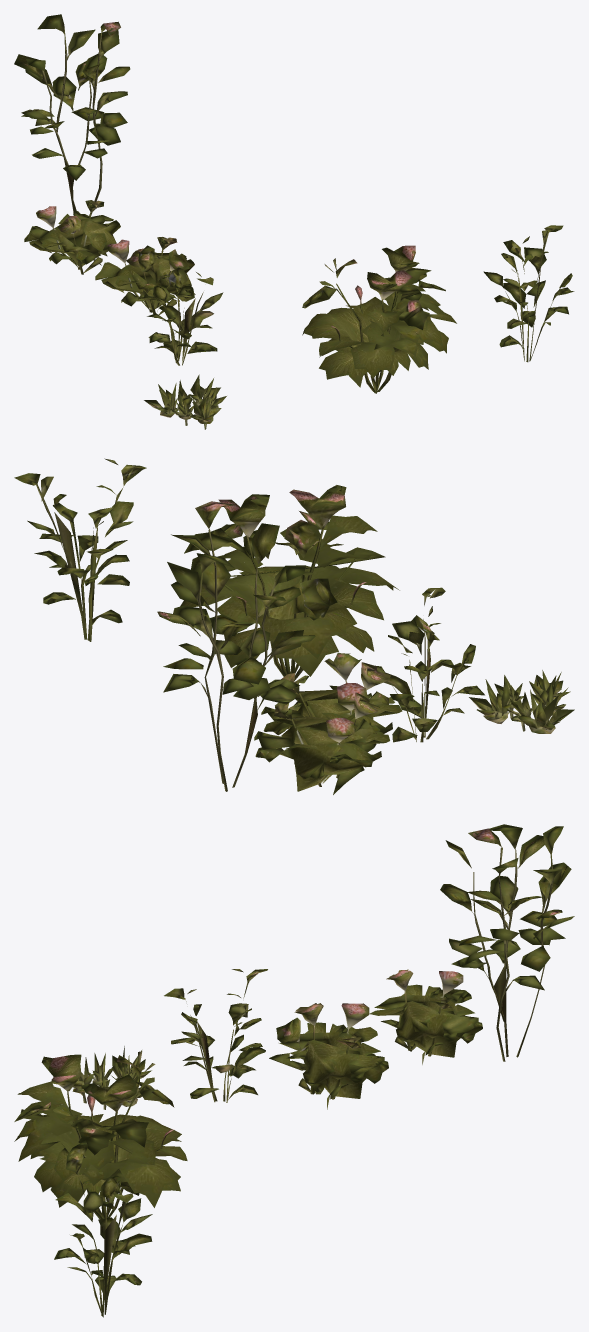
File: Bright flowers.fbx
3 renders of one model, top to bottom at view 1: azimuth 30°, elevation 25°; view 2: azimuth 150°, elevation 25°; view 3: azimuth 270°, elevation 25°, orthographic. The views are drawn at different scales.
Parts seen in each view (by area): view 1: tripo_node_3af698c0-3ffc-44cd-8c10-15fcefd0639e.002, tripo_node_3af698c0-3ffc-44cd-8c10-15fcefd0639e.006, tripo_node_3af698c0-3ffc-44cd-8c10-15fcefd0639e.007, tripo_node_3af698c0-3ffc-44cd-8c10-15fcefd0639e.004, tripo_node_3af698c0-3ffc-44cd-8c10-15fcefd0639e.005, tripo_node_3af698c0-3ffc-44cd-8c10-15fcefd0639e.001, tripo_node_3af698c0-3ffc-44cd-8c10-15fcefd0639e.003; view 2: tripo_node_3af698c0-3ffc-44cd-8c10-15fcefd0639e.002, tripo_node_3af698c0-3ffc-44cd-8c10-15fcefd0639e.006, tripo_node_3af698c0-3ffc-44cd-8c10-15fcefd0639e.007, tripo_node_3af698c0-3ffc-44cd-8c10-15fcefd0639e.001, tripo_node_3af698c0-3ffc-44cd-8c10-15fcefd0639e.005, tripo_node_3af698c0-3ffc-44cd-8c10-15fcefd0639e.004, tripo_node_3af698c0-3ffc-44cd-8c10-15fcefd0639e.003, tripo_node_3af698c0-3ffc-44cd-8c10-15fcefd0639e; view 3: tripo_node_3af698c0-3ffc-44cd-8c10-15fcefd0639e.002, tripo_node_3af698c0-3ffc-44cd-8c10-15fcefd0639e.006, tripo_node_3af698c0-3ffc-44cd-8c10-15fcefd0639e.005, tripo_node_3af698c0-3ffc-44cd-8c10-15fcefd0639e.007, tripo_node_3af698c0-3ffc-44cd-8c10-15fcefd0639e.001, tripo_node_3af698c0-3ffc-44cd-8c10-15fcefd0639e.004, tripo_node_3af698c0-3ffc-44cd-8c10-15fcefd0639e.003.
Part boxes in pixels (left/top/right/bottom): tripo_node_3af698c0-3ffc-44cd-8c10-15fcefd0639e.002: left=302, top=245, right=456, bottom=393; tripo_node_3af698c0-3ffc-44cd-8c10-15fcefd0639e.006: left=14, top=14, right=130, bottom=215; tripo_node_3af698c0-3ffc-44cd-8c10-15fcefd0639e.007: left=24, top=200, right=120, bottom=274; tripo_node_3af698c0-3ffc-44cd-8c10-15fcefd0639e.004: left=138, top=245, right=223, bottom=365; tripo_node_3af698c0-3ffc-44cd-8c10-15fcefd0639e.005: left=95, top=237, right=194, bottom=317; tripo_node_3af698c0-3ffc-44cd-8c10-15fcefd0639e.001: left=483, top=225, right=574, bottom=362; tripo_node_3af698c0-3ffc-44cd-8c10-15fcefd0639e.003: left=144, top=374, right=226, bottom=429; tripo_node_3af698c0-3ffc-44cd-8c10-15fcefd0639e.002: left=180, top=485, right=399, bottom=680; tripo_node_3af698c0-3ffc-44cd-8c10-15fcefd0639e.006: left=157, top=501, right=315, bottom=791; tripo_node_3af698c0-3ffc-44cd-8c10-15fcefd0639e.007: left=254, top=692, right=389, bottom=794; tripo_node_3af698c0-3ffc-44cd-8c10-15fcefd0639e.001: left=14, top=458, right=146, bottom=641; tripo_node_3af698c0-3ffc-44cd-8c10-15fcefd0639e.005: left=261, top=652, right=402, bottom=752; tripo_node_3af698c0-3ffc-44cd-8c10-15fcefd0639e.004: left=375, top=587, right=484, bottom=742; tripo_node_3af698c0-3ffc-44cd-8c10-15fcefd0639e.003: left=469, top=670, right=574, bottom=733; tripo_node_3af698c0-3ffc-44cd-8c10-15fcefd0639e: left=285, top=565, right=315, bottom=645; tripo_node_3af698c0-3ffc-44cd-8c10-15fcefd0639e.002: left=14, top=1051, right=187, bottom=1219; tripo_node_3af698c0-3ffc-44cd-8c10-15fcefd0639e.006: left=440, top=826, right=574, bottom=1061; tripo_node_3af698c0-3ffc-44cd-8c10-15fcefd0639e.005: left=269, top=1003, right=382, bottom=1109; tripo_node_3af698c0-3ffc-44cd-8c10-15fcefd0639e.007: left=367, top=969, right=482, bottom=1072; tripo_node_3af698c0-3ffc-44cd-8c10-15fcefd0639e.001: left=54, top=1140, right=152, bottom=1317; tripo_node_3af698c0-3ffc-44cd-8c10-15fcefd0639e.004: left=164, top=969, right=267, bottom=1102; tripo_node_3af698c0-3ffc-44cd-8c10-15fcefd0639e.003: left=72, top=1046, right=151, bottom=1109.
Size of the model in its own units: 99.8 by 65.43 by 99.02.
Materials: 1 (1 with a texture image).
